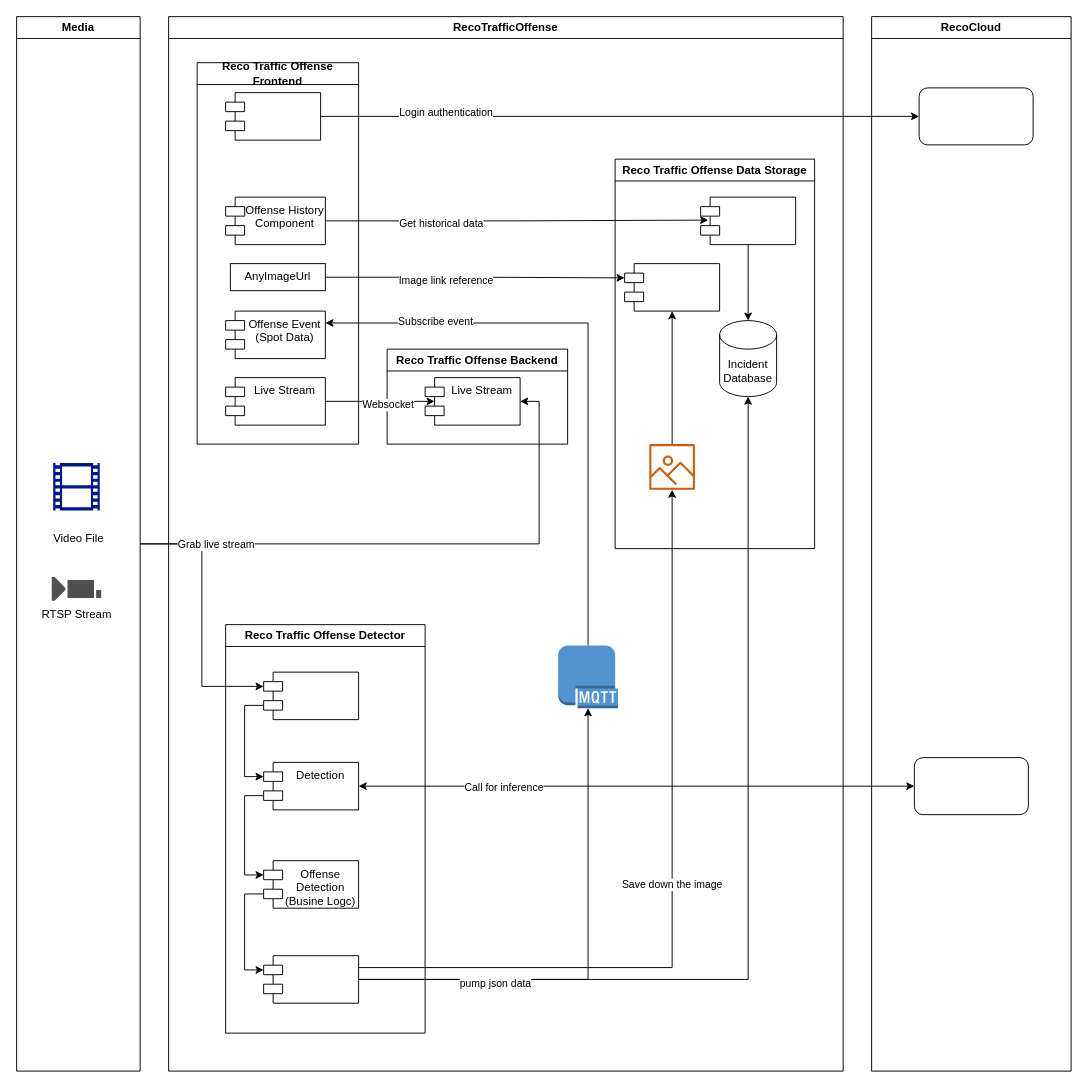
The diagram is 1088 pixels wide and 1088 high, and some of its shapes have lost their labels. Here are the shapes that lost their labels. From the top down, the centre of each, then its label:
At (273,116): "Login Module".
At (975,116): "RecoUser".
At (748,220): "History Data Service".
At (672,287): "Image Host Service".
At (311,695): "Reader".
At (970,786): "RecoModelApi".
At (311,979): "Incident Triggering".
